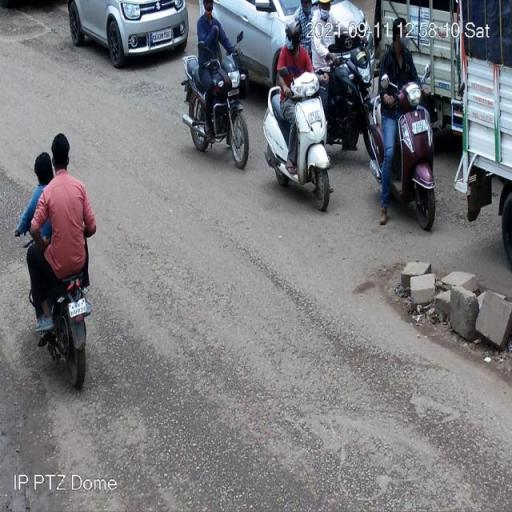using mobile: (33, 178, 45, 191)
